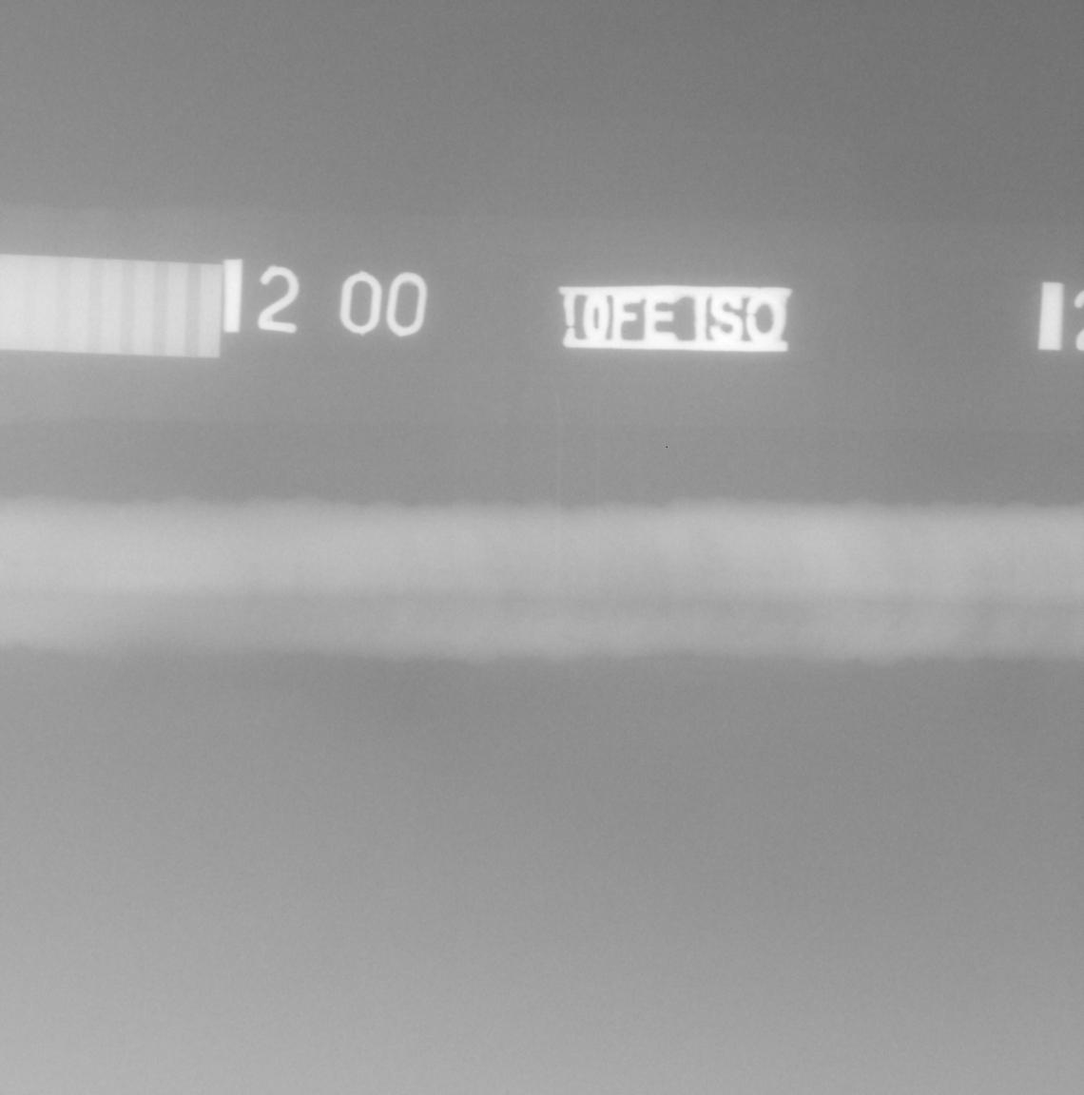Inclusion: (562, 635, 589, 645)
